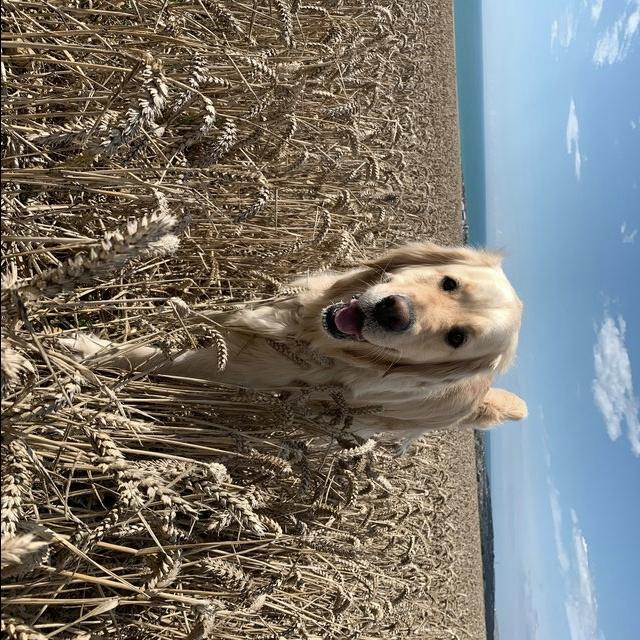retriever: (53, 241, 529, 456)
